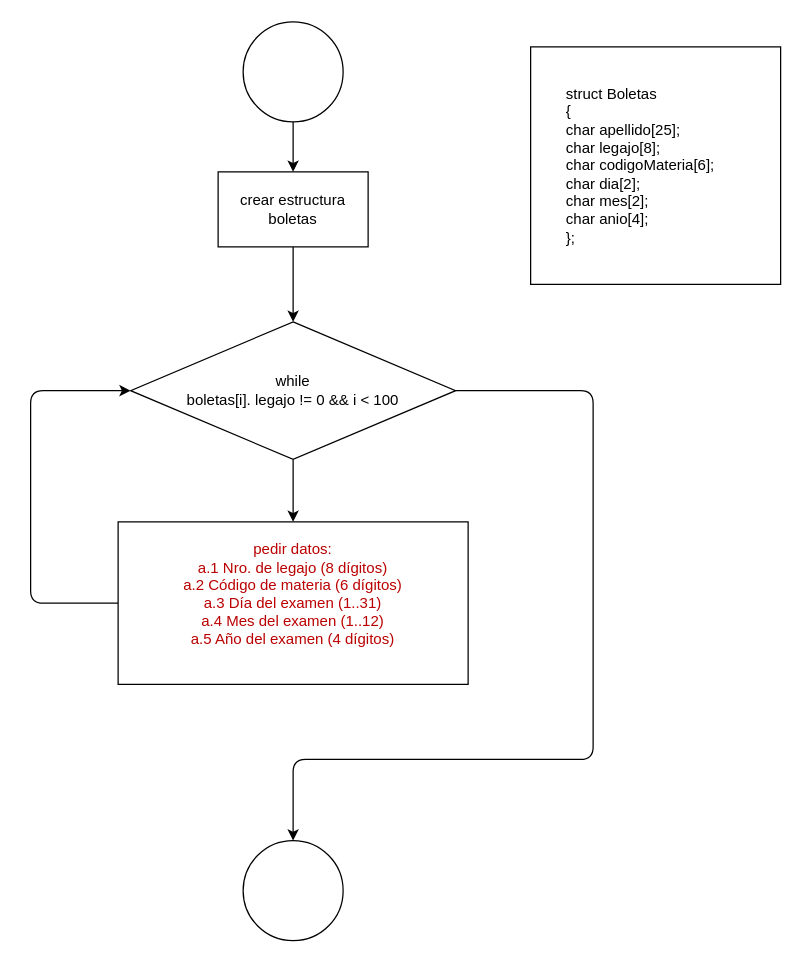
Image size: 803x963. Some labels were removed from this diagram. Here are the shapes that lost their labels. From the top down, the box of each, then its label:
(242, 21, 343, 122): inicio
(242, 839, 343, 941): Fin
